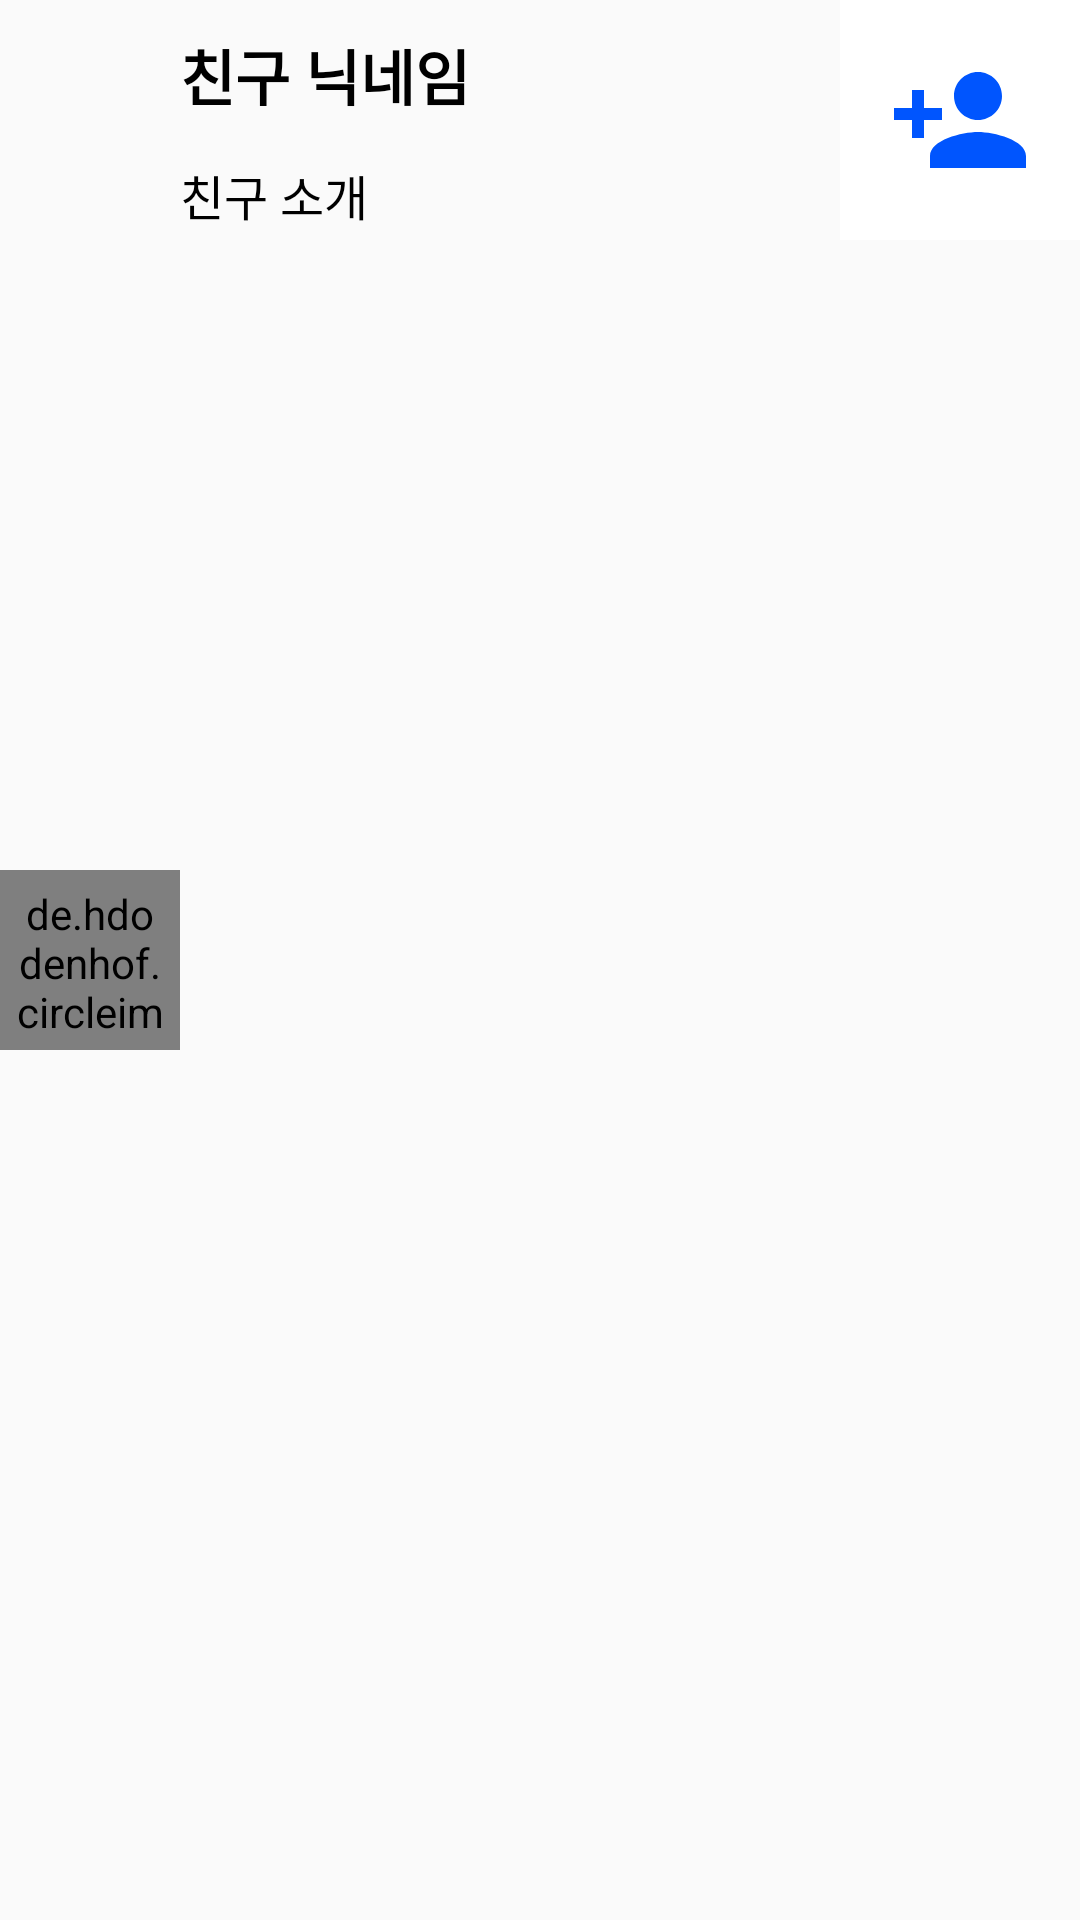

Where to tap for icons on this 1080x1920 app screen, as (x,y):
person add: (960,120)
